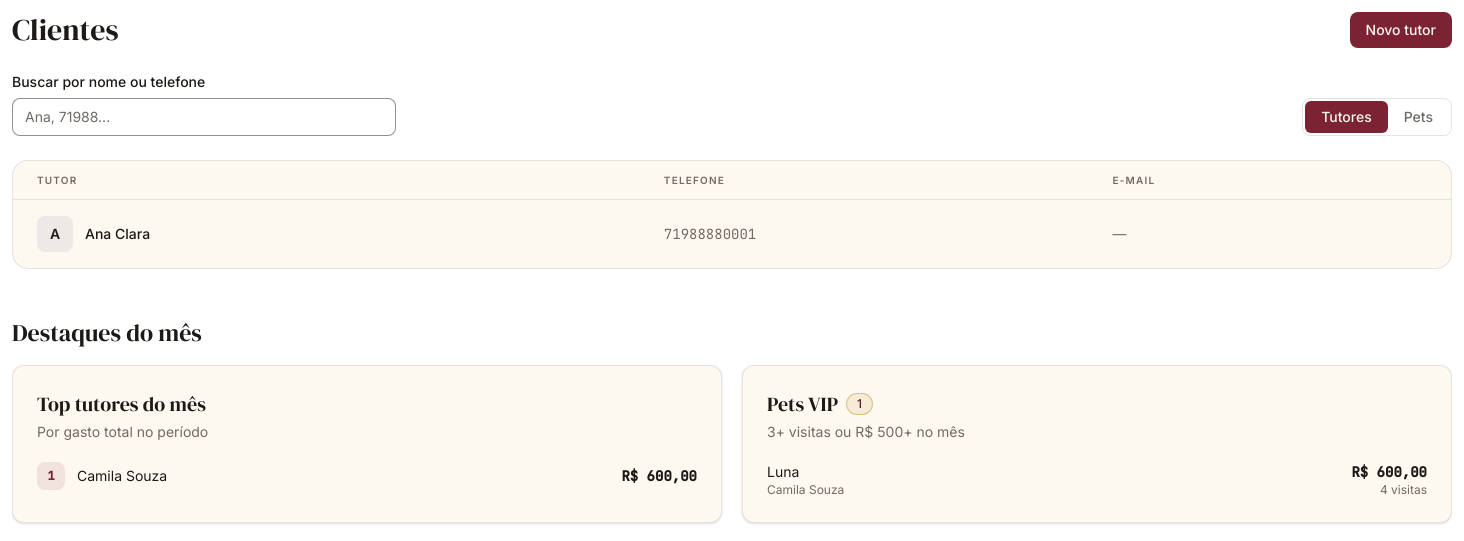
it: Clientes › o switch troca a lista de tutores para pets
expect the text "Ana Clara" is shown: met, box [85,224,150,244]
Click the button "Pets".
click(1418, 117)  # box [1388,101,1449,133]
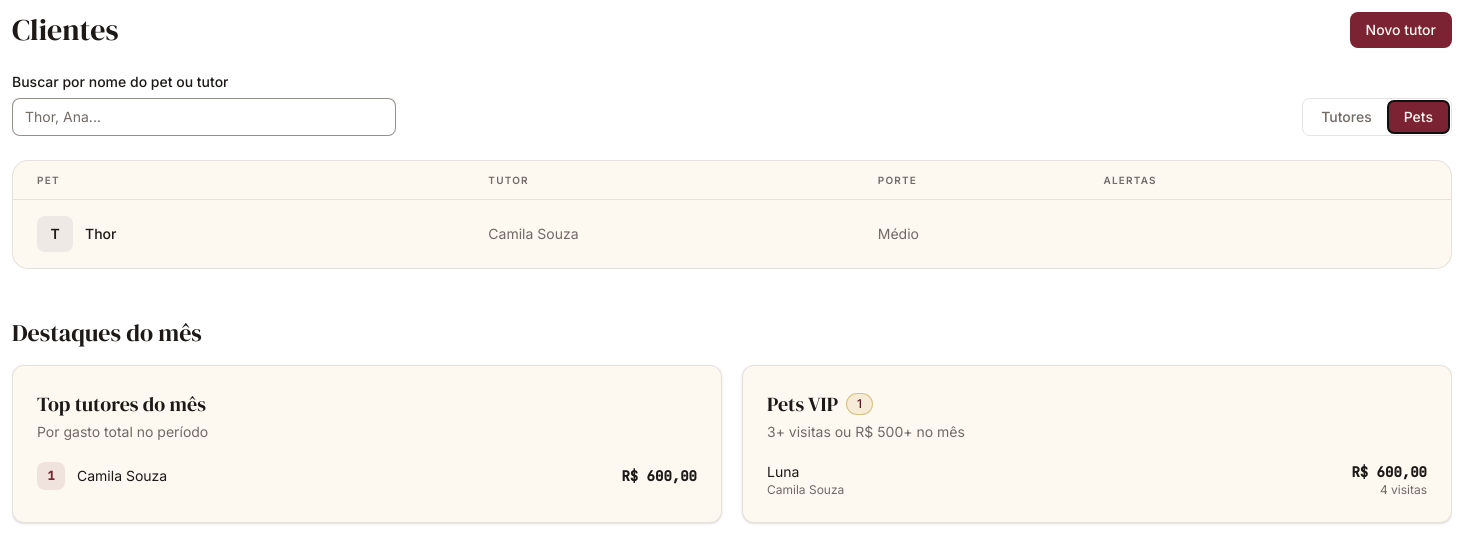
expect the link "Ana Clara" is gone: met
